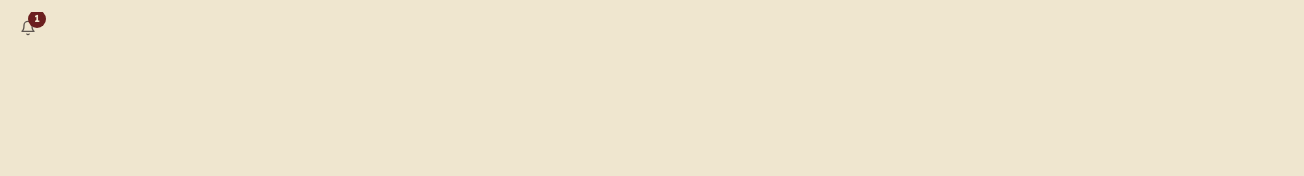
it: opening the list › closes on a second tap
The width and height of the screenshot is (1304, 176).
Click the button named "Notifications".
click(28, 28)  # box [12,12,44,44]
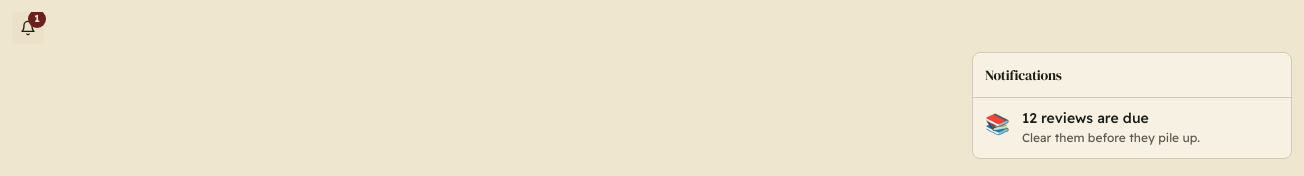
Click the button named "Notifications".
click(28, 28)  # box [12,12,44,44]
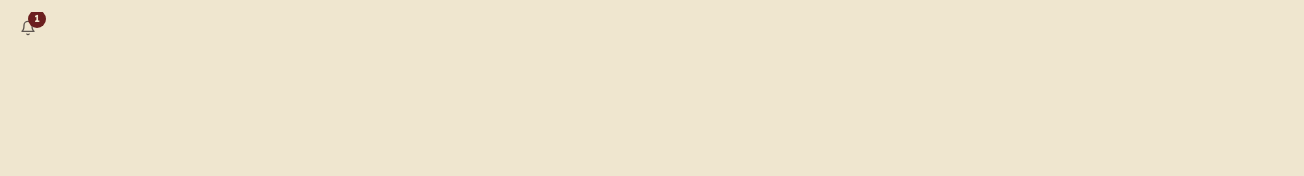
expect the heading "Notifications" is gone: met
